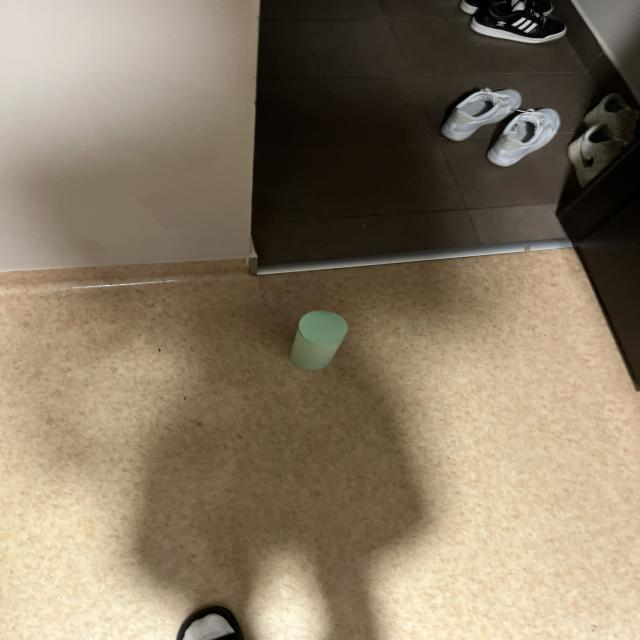meta: (291, 311, 347, 370)
